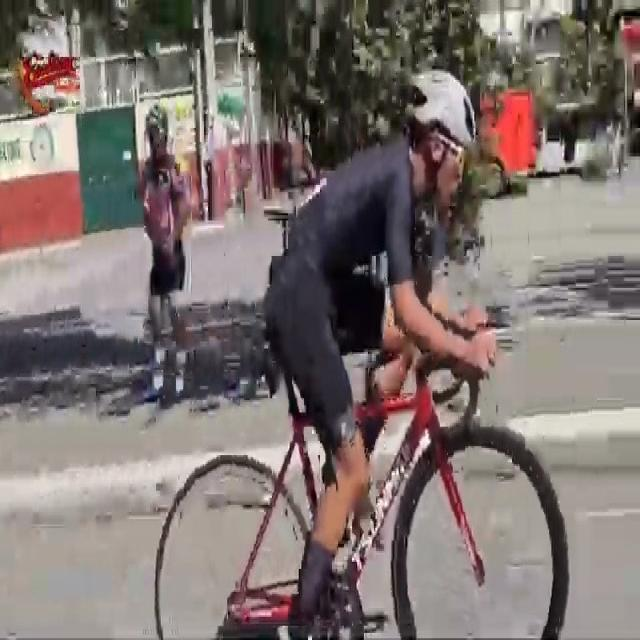car: (150, 53, 572, 640)
